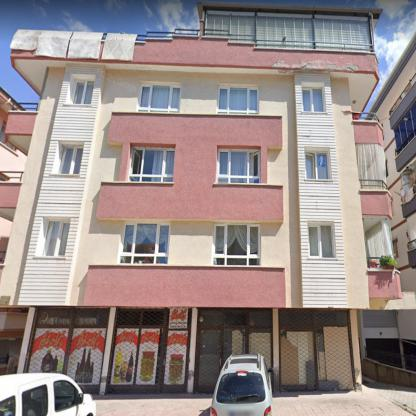door: (160, 328, 190, 393), (194, 326, 222, 394)
window: (206, 12, 370, 50), (118, 221, 170, 265), (212, 222, 260, 266), (127, 146, 174, 182), (216, 148, 260, 183), (136, 83, 180, 112), (39, 218, 70, 257), (216, 86, 258, 114), (394, 101, 415, 156), (308, 223, 334, 259), (56, 145, 83, 174), (305, 149, 329, 180), (69, 79, 95, 104), (302, 87, 324, 113)
